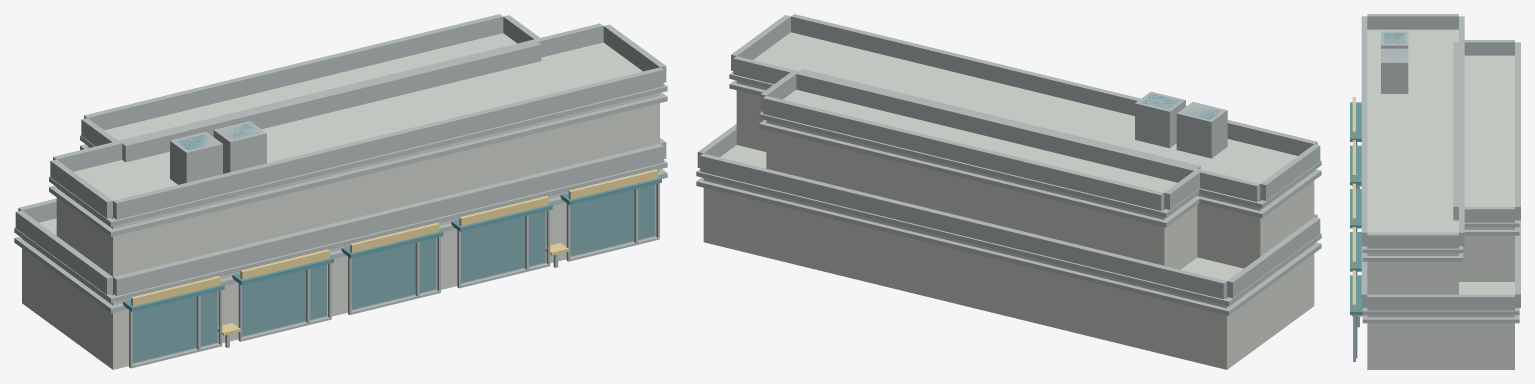
The model's file is commercial_3x1_court.glb.
The picture shows the model from 3 angles, left to right: view 1: azimuth 30°, elevation 25°; view 2: azimuth 150°, elevation 25°; view 3: azimuth 270°, elevation 25°; orthographic projection. The views are drawn at different scales.
Visible parts, largest first — view 1: commercial_3x1_court_0; view 2: commercial_3x1_court_0; view 3: commercial_3x1_court_0.
Boxes of the visible parts, x1=… form: commercial_3x1_court_0: x1=14, y1=14, x2=667, y2=369; commercial_3x1_court_0: x1=696, y1=14, x2=1321, y2=369; commercial_3x1_court_0: x1=1350, y1=14, x2=1520, y2=369.
Bounding box in the file's own units: 23 × 7.5 × 7.5.
